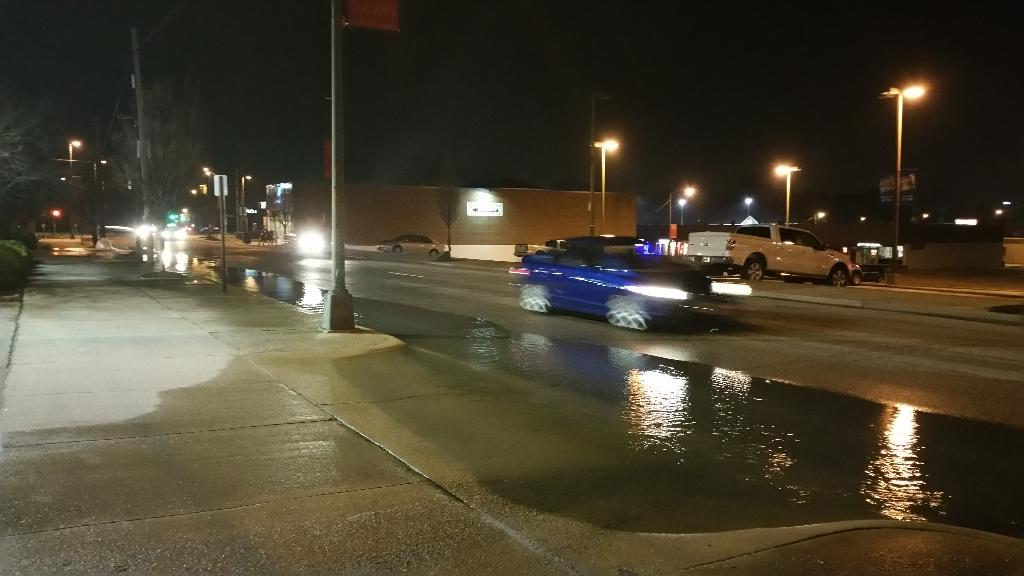Car: (510, 238, 763, 334), (377, 231, 446, 257)
